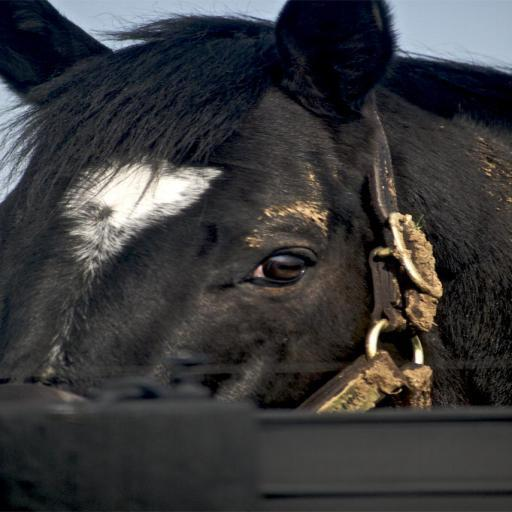Horse: (0, 0, 512, 408)
